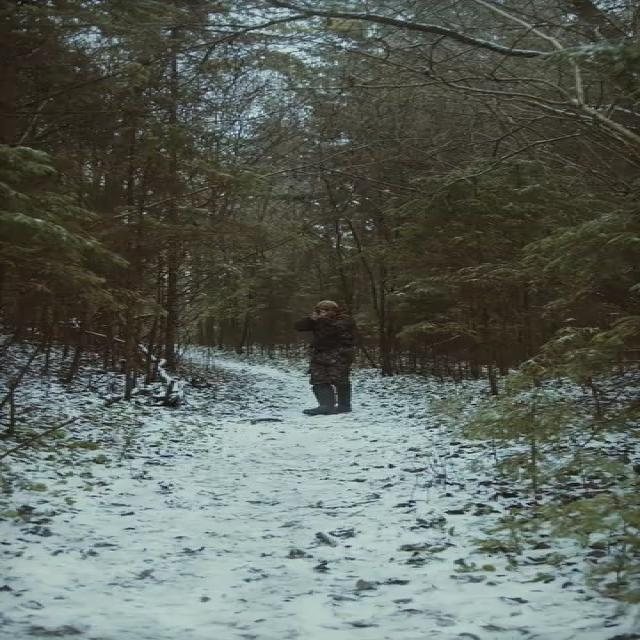Gun_Holder: (307, 310, 338, 320)
Person: (289, 296, 364, 412)
